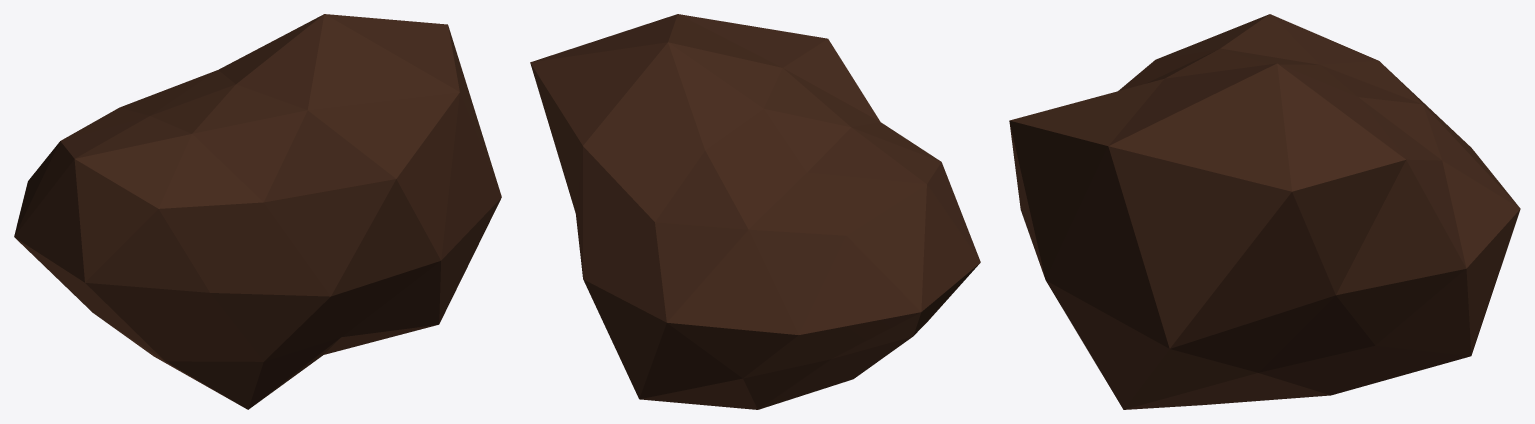
Rendered from FloatingRock1.fbx.
3 renders of one model, left to right at view 1: azimuth 30°, elevation 25°; view 2: azimuth 150°, elevation 25°; view 3: azimuth 270°, elevation 25°, orthographic. The views are drawn at different scales.
Parts seen in each view (by area): view 1: Icosphere; view 2: Icosphere; view 3: Icosphere.
Boxes of the visible parts, box(x1,y1,x2,y2) form: Icosphere: box(14, 14, 501, 409); Icosphere: box(530, 14, 980, 409); Icosphere: box(1009, 14, 1520, 409).
Size of the model in its own units: 222 by 170 by 205.
